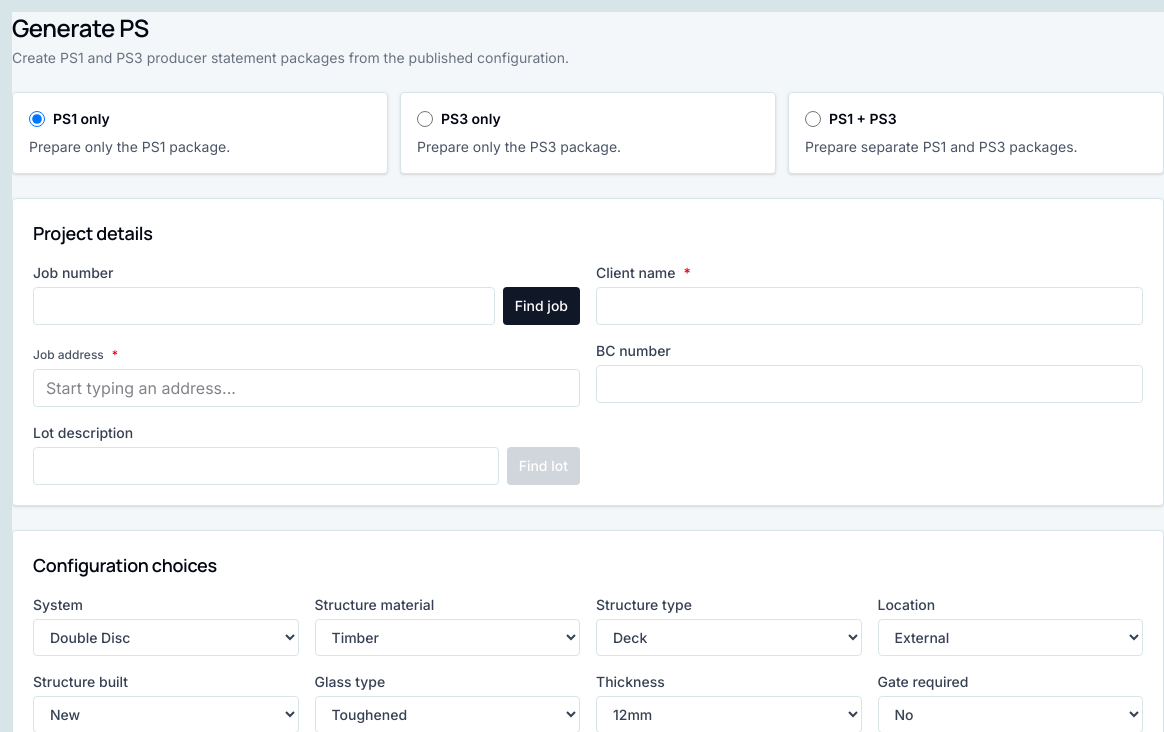
it: GeneratePsForm › prefills only client name and job address for a matching job number
The width and height of the screenshot is (1164, 732).
Type " r260210 " into the field labelled "Job number" at (264, 306), box [33,287,495,325]
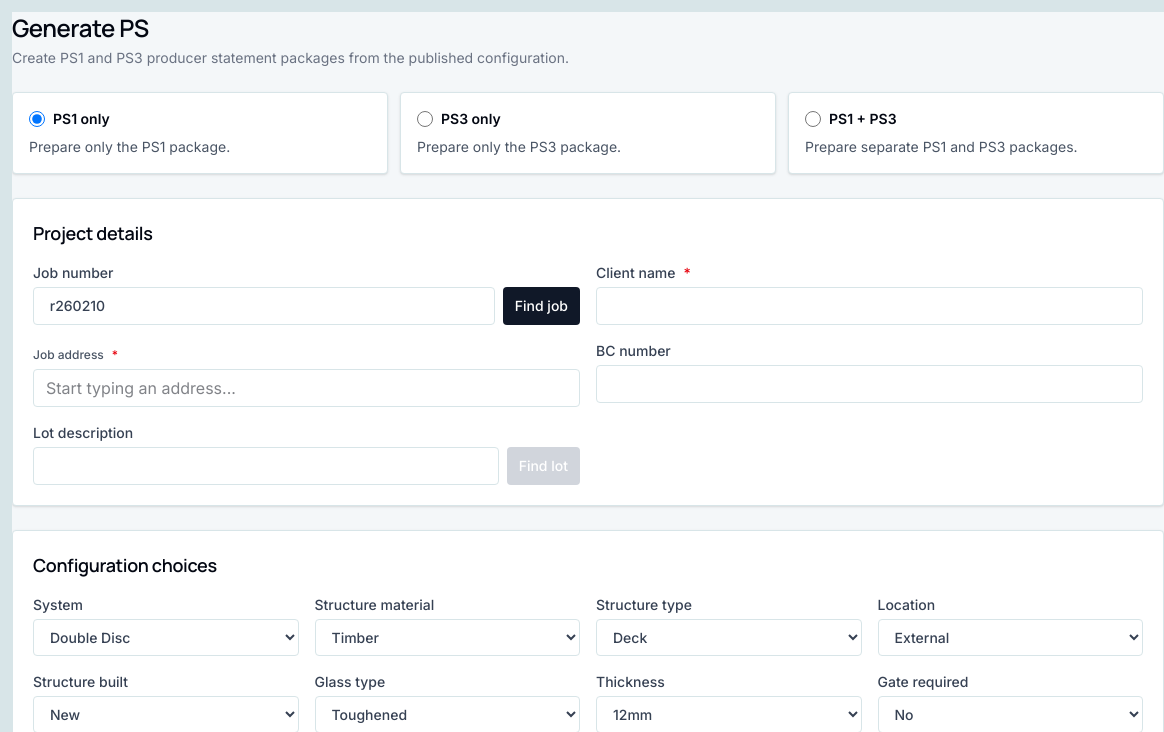
Type "BC-123" into the field labelled "BC number" at (870, 384), box [596,365,1143,403]
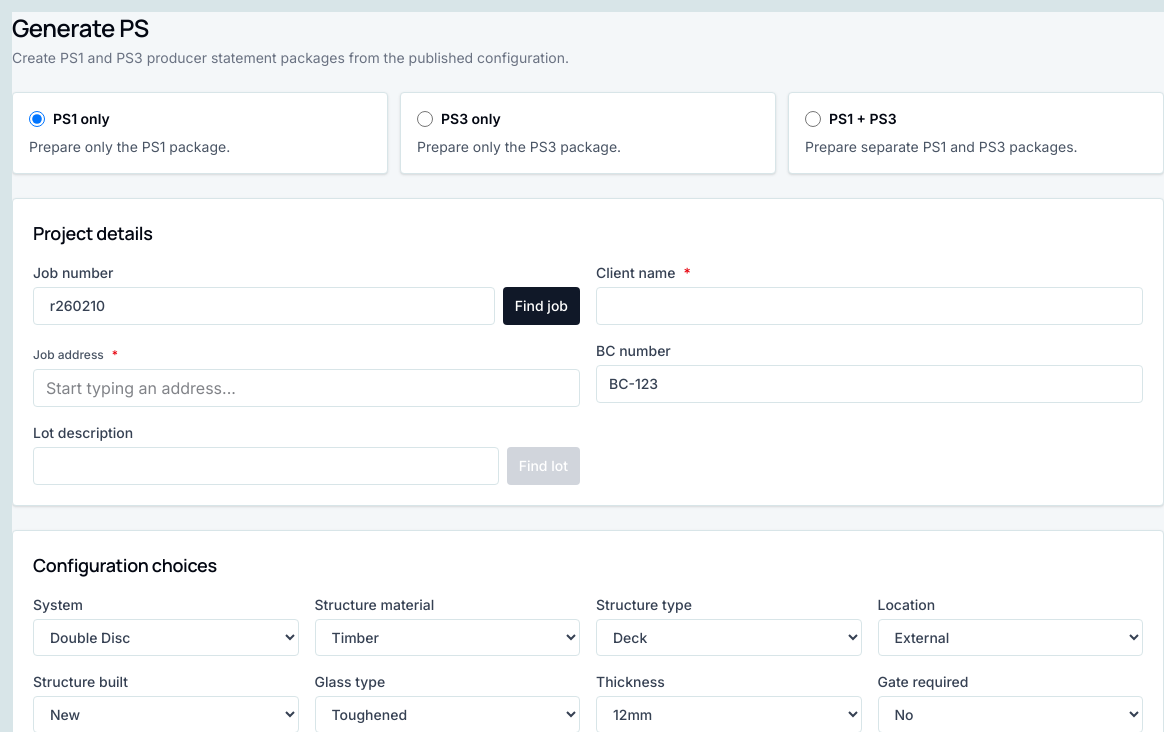
Type "Lot 4 DP 12345" into the field labelled "Lot description" at (266, 466), box [33,447,499,485]
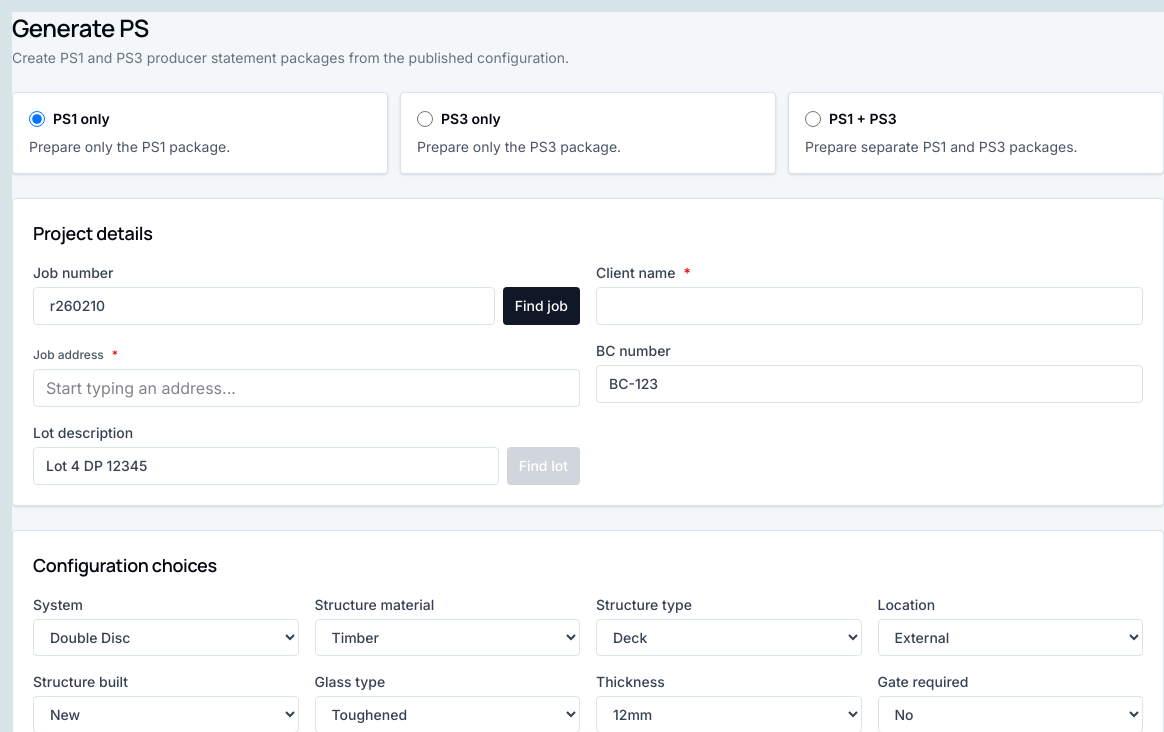
Click the button "Find job" at (541, 306), box [503,287,580,325]
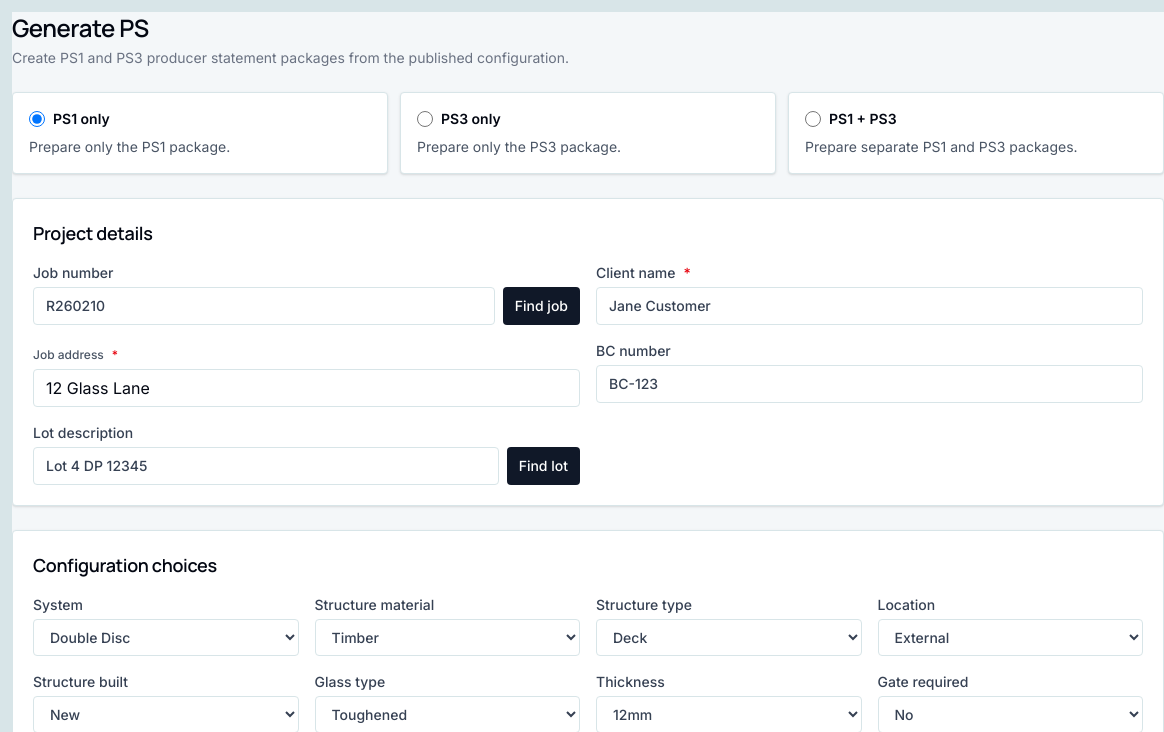
Check: the field labelled "Job address" holds "12 Glass Lane", box [33,369,580,407]
Check: the field labelled "Client name" holds "Jane Customer", box [596,287,1143,325]
